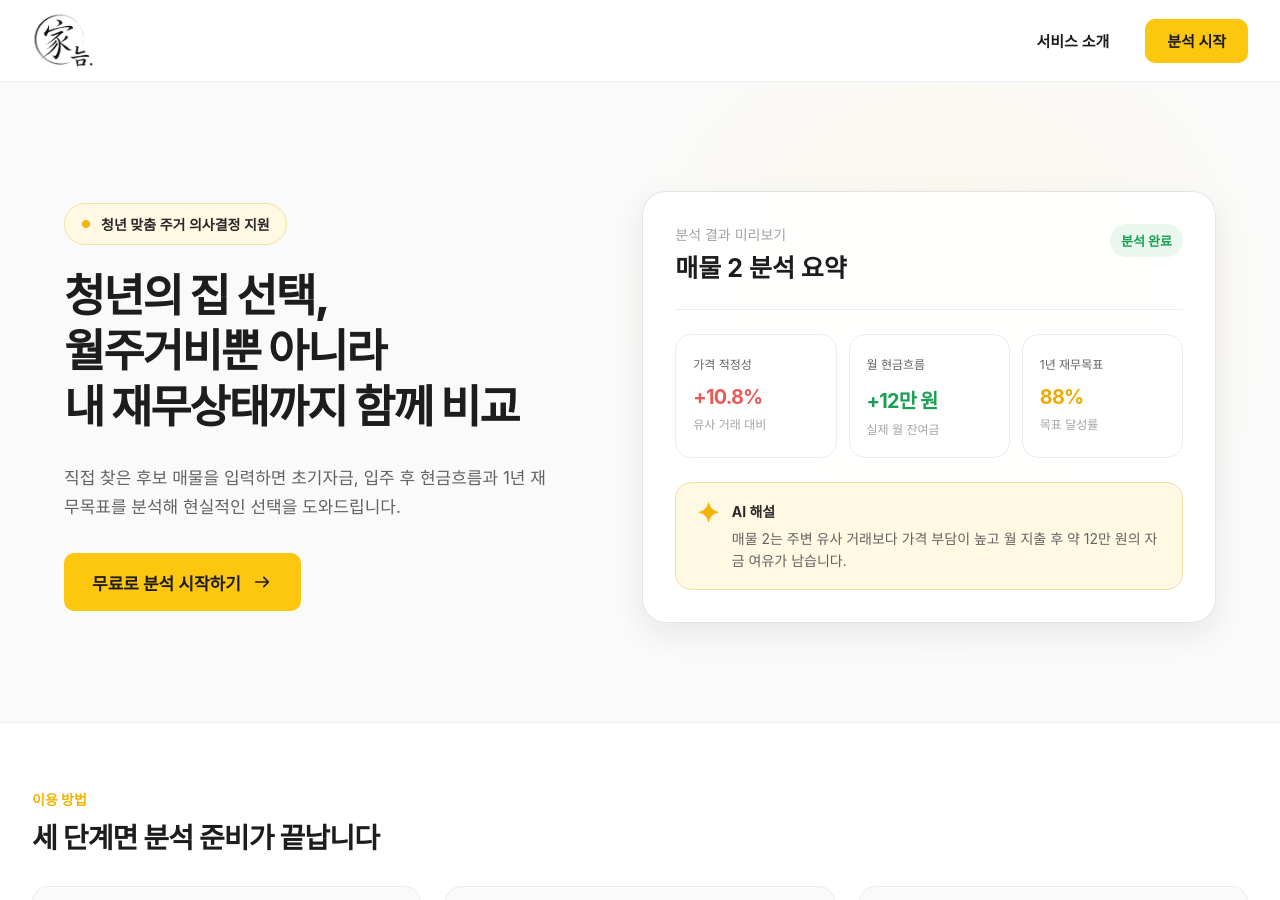
Test: App › 분석 시작 시 서버에서 분석 ID를 발급받아 저장하고 해당 입력 화면으로 이동한다
This screenshot has width=1280, height=900.
Click the button "무료로 분석 시작하기" at (182, 582), box top-left (64, 553), bottom-right (301, 611)
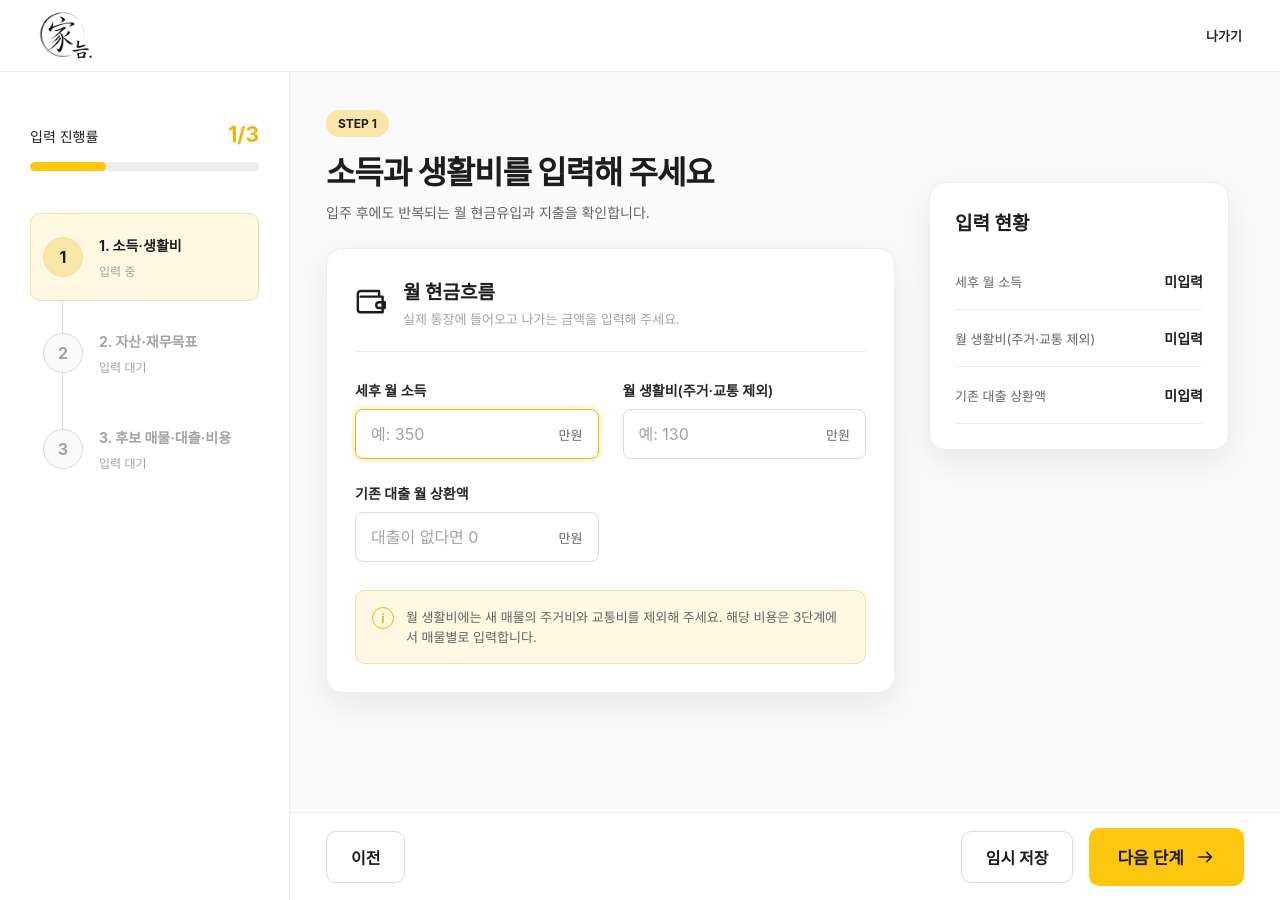
Now the heading "소득과 생활비를 입력해 주세요" is shown, box top-left (326, 153), bottom-right (714, 192)
